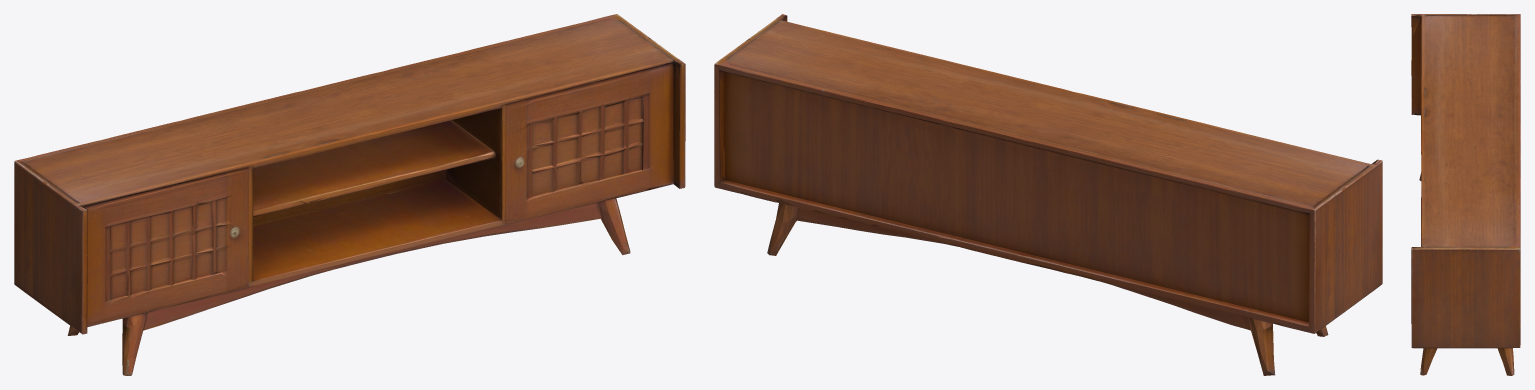
The model's file is 1950s_tv_stand_midd_0401221856_texture.fbx.
3 views of the same model, side by side, from view 1: azimuth 30°, elevation 25°; view 2: azimuth 150°, elevation 25°; view 3: azimuth 270°, elevation 25° (orthographic). The views are drawn at different scales.
Parts seen in each view (by area): view 1: temp; view 2: temp; view 3: temp.
Part boxes in pixels (x1,y1,x2,y2): temp: (14, 14, 685, 375); temp: (714, 14, 1382, 375); temp: (1411, 14, 1520, 375).
Size of the model in its own units: 200 by 58.24 by 39.32.
1 material, 1 textured.
